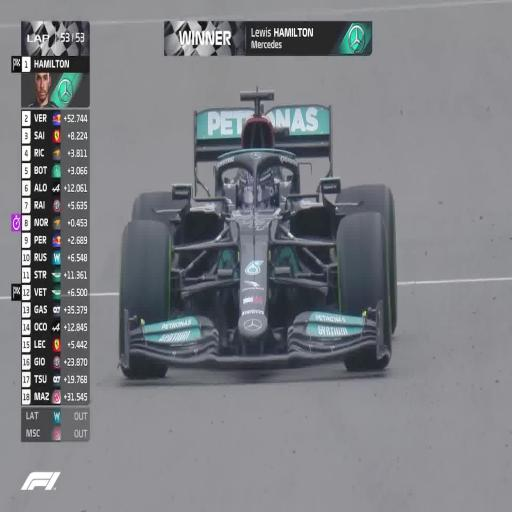f1_car: (119, 90, 397, 377)
